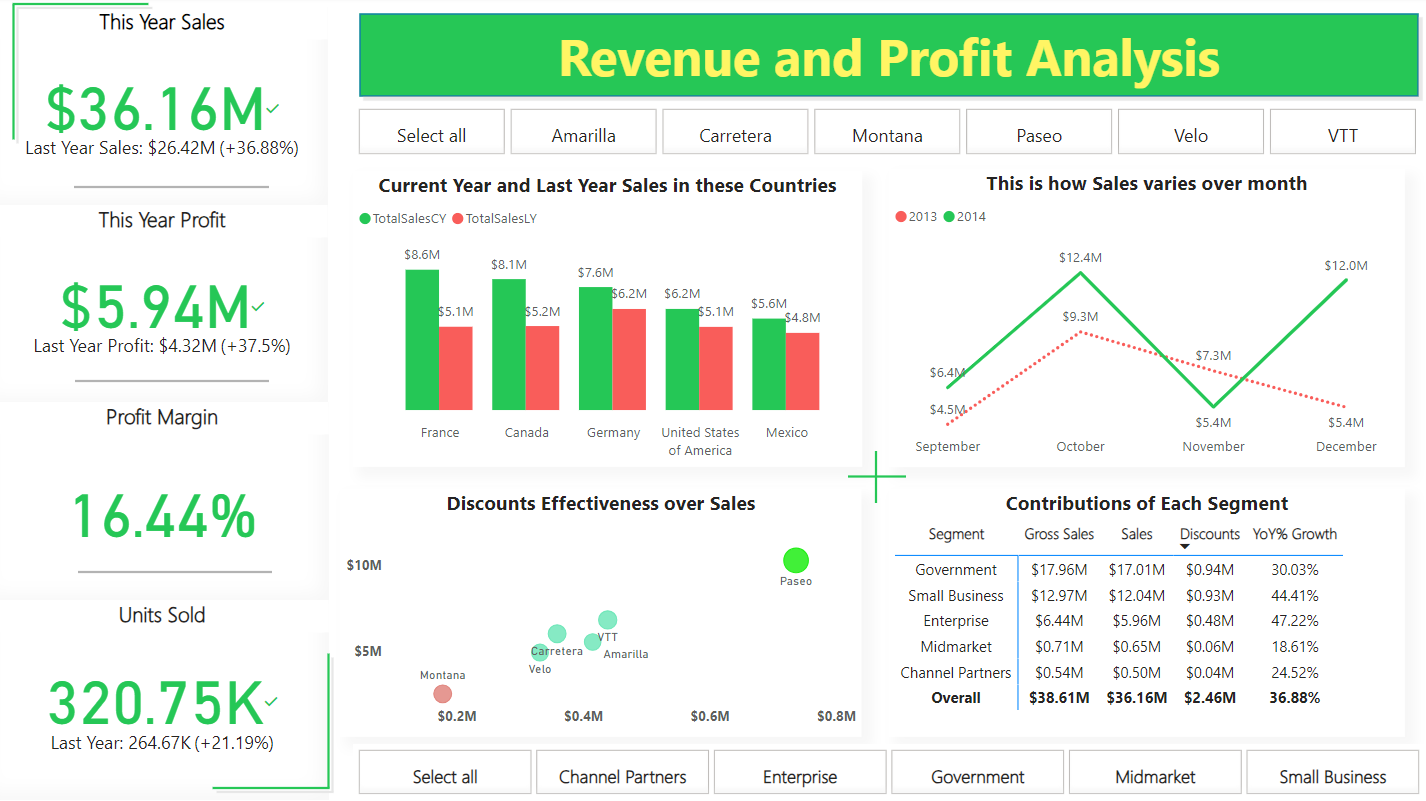

Layout of this report page (visuals, bound fields, positions):
{"tool":"powerbi","page":{"name":"Page 1","canvas":[1280,720],"ordinal":0},"visuals":[{"type":"shape","box":[9.9,0,131.6,12.5],"z":0,"group":"g2"},{"type":"group","id":"g1","title":"Group 2","box":[3.6,1.5,24.2,130.7],"z":0,"group":"g5"},{"type":"shape","box":[3.6,1.5,24.2,130.7],"z":0,"group":"g1"},{"type":"lineChart","title":"This is how Sales varies over month","fields":{"Y":["All Measures.Total Sales"],"Category":["Financials. Month Name "],"Series":["Financials.Year"]},"box":[799.7,154,462.1,266.9],"z":0},{"type":"shape","box":[285.4,582.9,24.2,130.7],"z":0,"group":"g4"},{"type":"group","id":"g2","title":"Group 2","box":[9.9,0,131.6,12.5],"z":1000,"group":"g5"},{"type":"advancedSlicerVisual","fields":{"Values":["Financials. Product "]},"box":[319.7,94.9,960,51.9],"z":1000},{"type":"shape","box":[188.7,702,114.6,12.5],"z":1000,"group":"g4"},{"type":"kpi","title":"This Year Sales","fields":{"Indicator":["All Measures.TotalSalesCY"],"Goal":["All Measures.TotalSalesLY"],"TrendLine":["Financials.Year"]},"box":[0,9,297.3,178.9],"z":2000,"group":"g3"},{"type":"clusteredColumnChart","title":"Current Year and Last Year Sales in these Countries","fields":{"Y":["All Measures.TotalSalesCY","All Measures.TotalSalesLY"],"Category":["Financials.Country"]},"box":[319.7,155.8,455.8,265.1],"z":2000},{"type":"shape","box":[319.7,9,960,86],"z":3000},{"type":"pivotTable","title":"Contributions of Each Segment","fields":{"Rows":["Financials.Segment"],"Values":["All Measures.Total Gross Sales","All Measures.Total Sales","All Measures.TotalDiscounts","All Measures.YoYGrowth"]},"box":[799.7,440.6,462.1,222.1],"z":4000},{"type":"kpi","title":"This Year Profit","fields":{"TrendLine":["Financials.Year"],"Indicator":["All Measures.TotalProfitCY"],"Goal":["All Measures.TotalProfitLY"]},"box":[0,185.9,297.3,178.9],"z":5000,"group":"g3"},{"type":"scatterChart","title":"Discounts Effectiveness over Sales","fields":{"X":["All Measures.TotalDiscounts"],"Y":["All Measures.Total Sales"],"Series":["Financials. Product "],"Size":["Sum(Financials.Units Sold)"]},"box":[308.1,440.6,467.5,222.1],"z":5000},{"type":"kpi","title":"Profit Margin","fields":{"TrendLine":["Financials.Year"],"Indicator":["All Measures.ProfitMargin"]},"box":[0,362.8,297.6,179.2],"z":6000,"group":"g3"},{"type":"advancedSlicerVisual","fields":{"Values":["Financials.Segment"]},"box":[319.7,669,960,50.1],"z":6000},{"type":"group","id":"g3","title":"Group 1","box":[0,9,297.3,710.1],"z":7000},{"type":"kpi","title":"Units Sold","fields":{"TrendLine":["Financials.Year"],"Indicator":["All Measures.TotalUnitsCY"],"Goal":["All Measures.TotalUnitsLY"]},"box":[0,539.9,297.6,179.2],"z":7000,"group":"g3"},{"type":"shape","box":[648.4,406.6,279.4,46.6],"z":8000},{"type":"shape","box":[763,420.9,51.9,17],"z":9000},{"type":"group","id":"g4","title":"Group 2","box":[188.7,582.9,120.9,131.6],"z":10000},{"type":"group","id":"g5","title":"Group 1","box":[3.6,0,137.9,132.2],"z":11000},{"type":"shape","box":[69.9,154,174.6,32.2],"z":12000},{"type":"shape","box":[70.7,327.8,173.7,32.2],"z":13000},{"type":"shape","box":[73.4,498.8,173.7,32.2],"z":14000}]}

Visuals, with their boxes in screenshot pixels (x1, y1, x2, y2), scaled from the page's 1280x720 canvas onto the 1426x801 screenshot:
shape: <box>11,0,158,14</box>
"Group 2" group: <box>4,2,31,147</box>
shape: <box>4,2,31,147</box>
"This is how Sales varies over month" lineChart: <box>891,171,1406,468</box>
shape: <box>318,648,345,794</box>
"Group 2" group: <box>11,0,158,14</box>
advancedSlicerVisual - Financials. Product : <box>356,106,1425,163</box>
shape: <box>210,781,338,795</box>
"This Year Sales" kpi: <box>0,10,331,209</box>
"Current Year and Last Year Sales in these Countries" clusteredColumnChart: <box>356,173,864,468</box>
shape: <box>356,10,1425,106</box>
"Contributions of Each Segment" pivotTable: <box>891,490,1406,737</box>
"This Year Profit" kpi: <box>0,207,331,406</box>
"Discounts Effectiveness over Sales" scatterChart: <box>343,490,864,737</box>
"Profit Margin" kpi: <box>0,404,332,603</box>
advancedSlicerVisual - Financials.Segment: <box>356,744,1425,800</box>
"Group 1" group: <box>0,10,331,800</box>
"Units Sold" kpi: <box>0,601,332,800</box>
shape: <box>722,452,1034,504</box>
shape: <box>850,468,908,487</box>
"Group 2" group: <box>210,648,345,795</box>
"Group 1" group: <box>4,0,158,147</box>
shape: <box>78,171,272,207</box>
shape: <box>79,365,272,400</box>
shape: <box>82,555,275,591</box>
